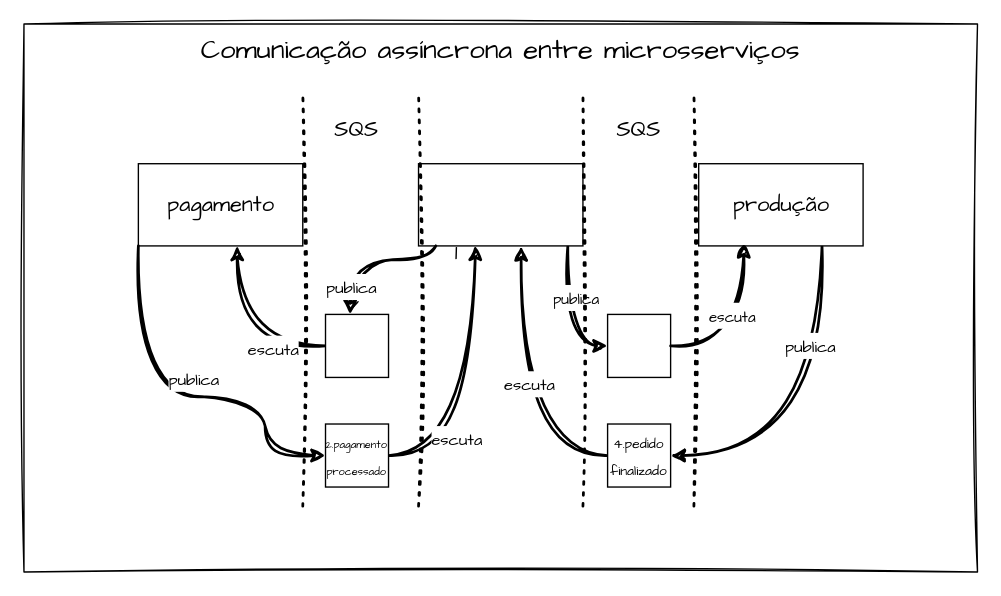
Some shapes in this 1001 by 596 pixel diagram are drawn without their labels. The shapes that lost their labels are listed below. From the top down, each one's centre as x and y in pixels, then its label:
pixel 500 204: pedido
pixel 356 345: 1.novo pedido
pixel 638 345: 3.pedido recebido
